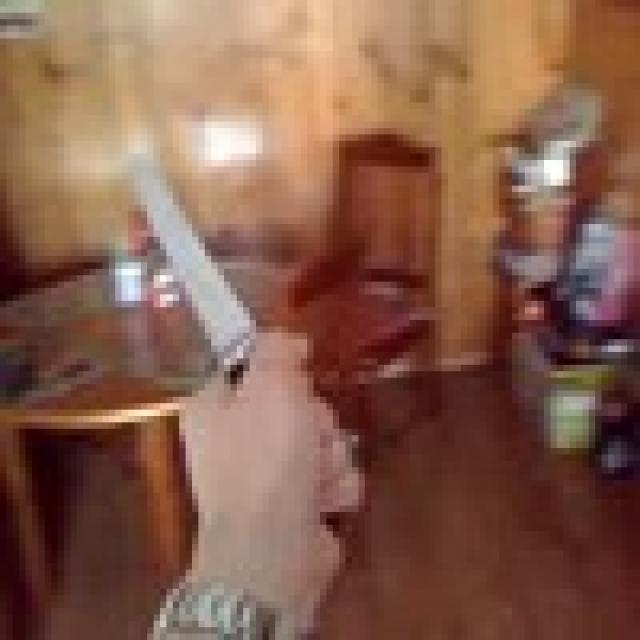weapon: (128, 154, 294, 448)
